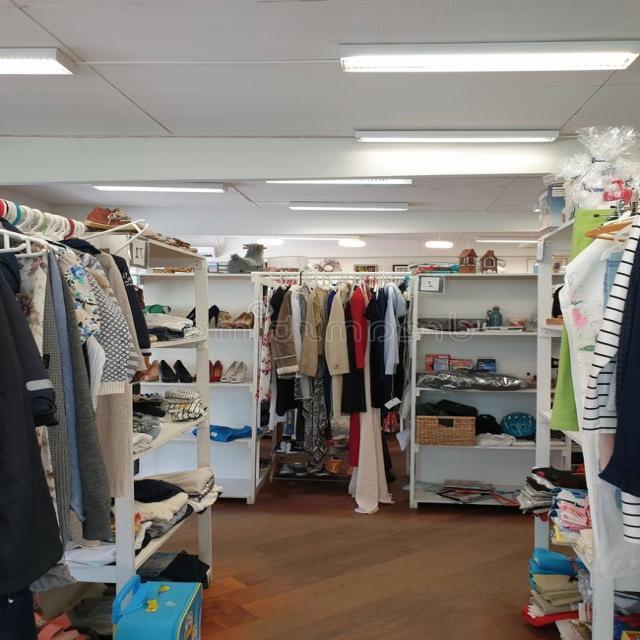clothes: (270, 300, 393, 507)
